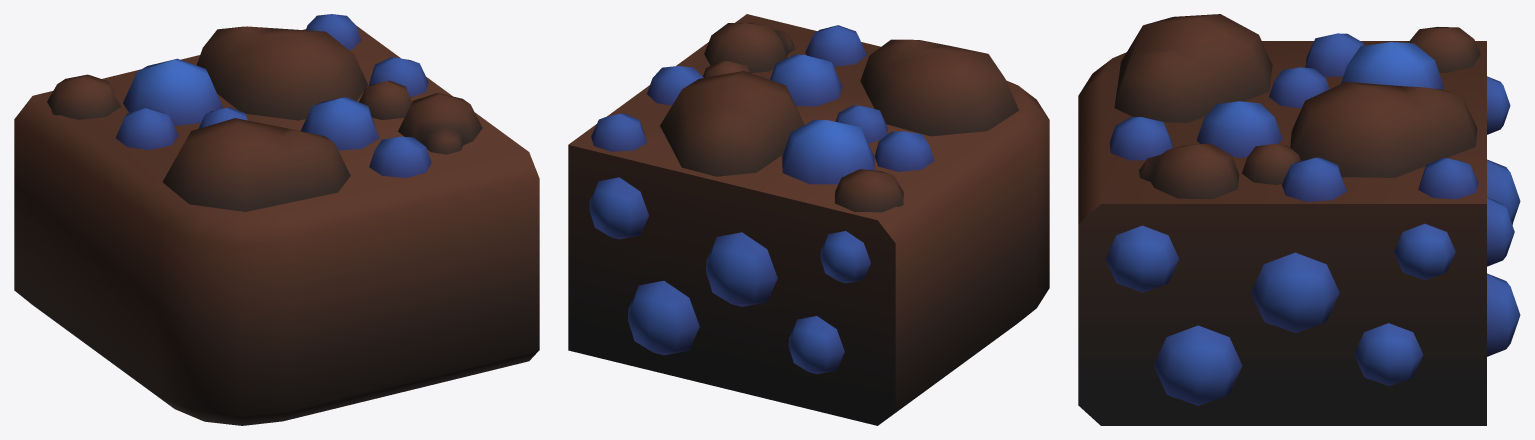
The model's file is m_SheetCake01_Slice01.fbx.
The picture shows the model from 3 angles, left to right: view 1: azimuth 30°, elevation 25°; view 2: azimuth 150°, elevation 25°; view 3: azimuth 270°, elevation 25°; orthographic projection. The views are drawn at different scales.
Parts seen in each view (by area): view 1: m_SheetCake01_Slice01; view 2: m_SheetCake01_Slice01; view 3: m_SheetCake01_Slice01.
Part boxes in pixels (x1=…): m_SheetCake01_Slice01: x1=14, y1=14, x2=539, y2=425; m_SheetCake01_Slice01: x1=568, y1=14, x2=1049, y2=425; m_SheetCake01_Slice01: x1=1078, y1=14, x2=1520, y2=425.
Size of the model in its own units: 10.82 by 7.57 by 10.82.
